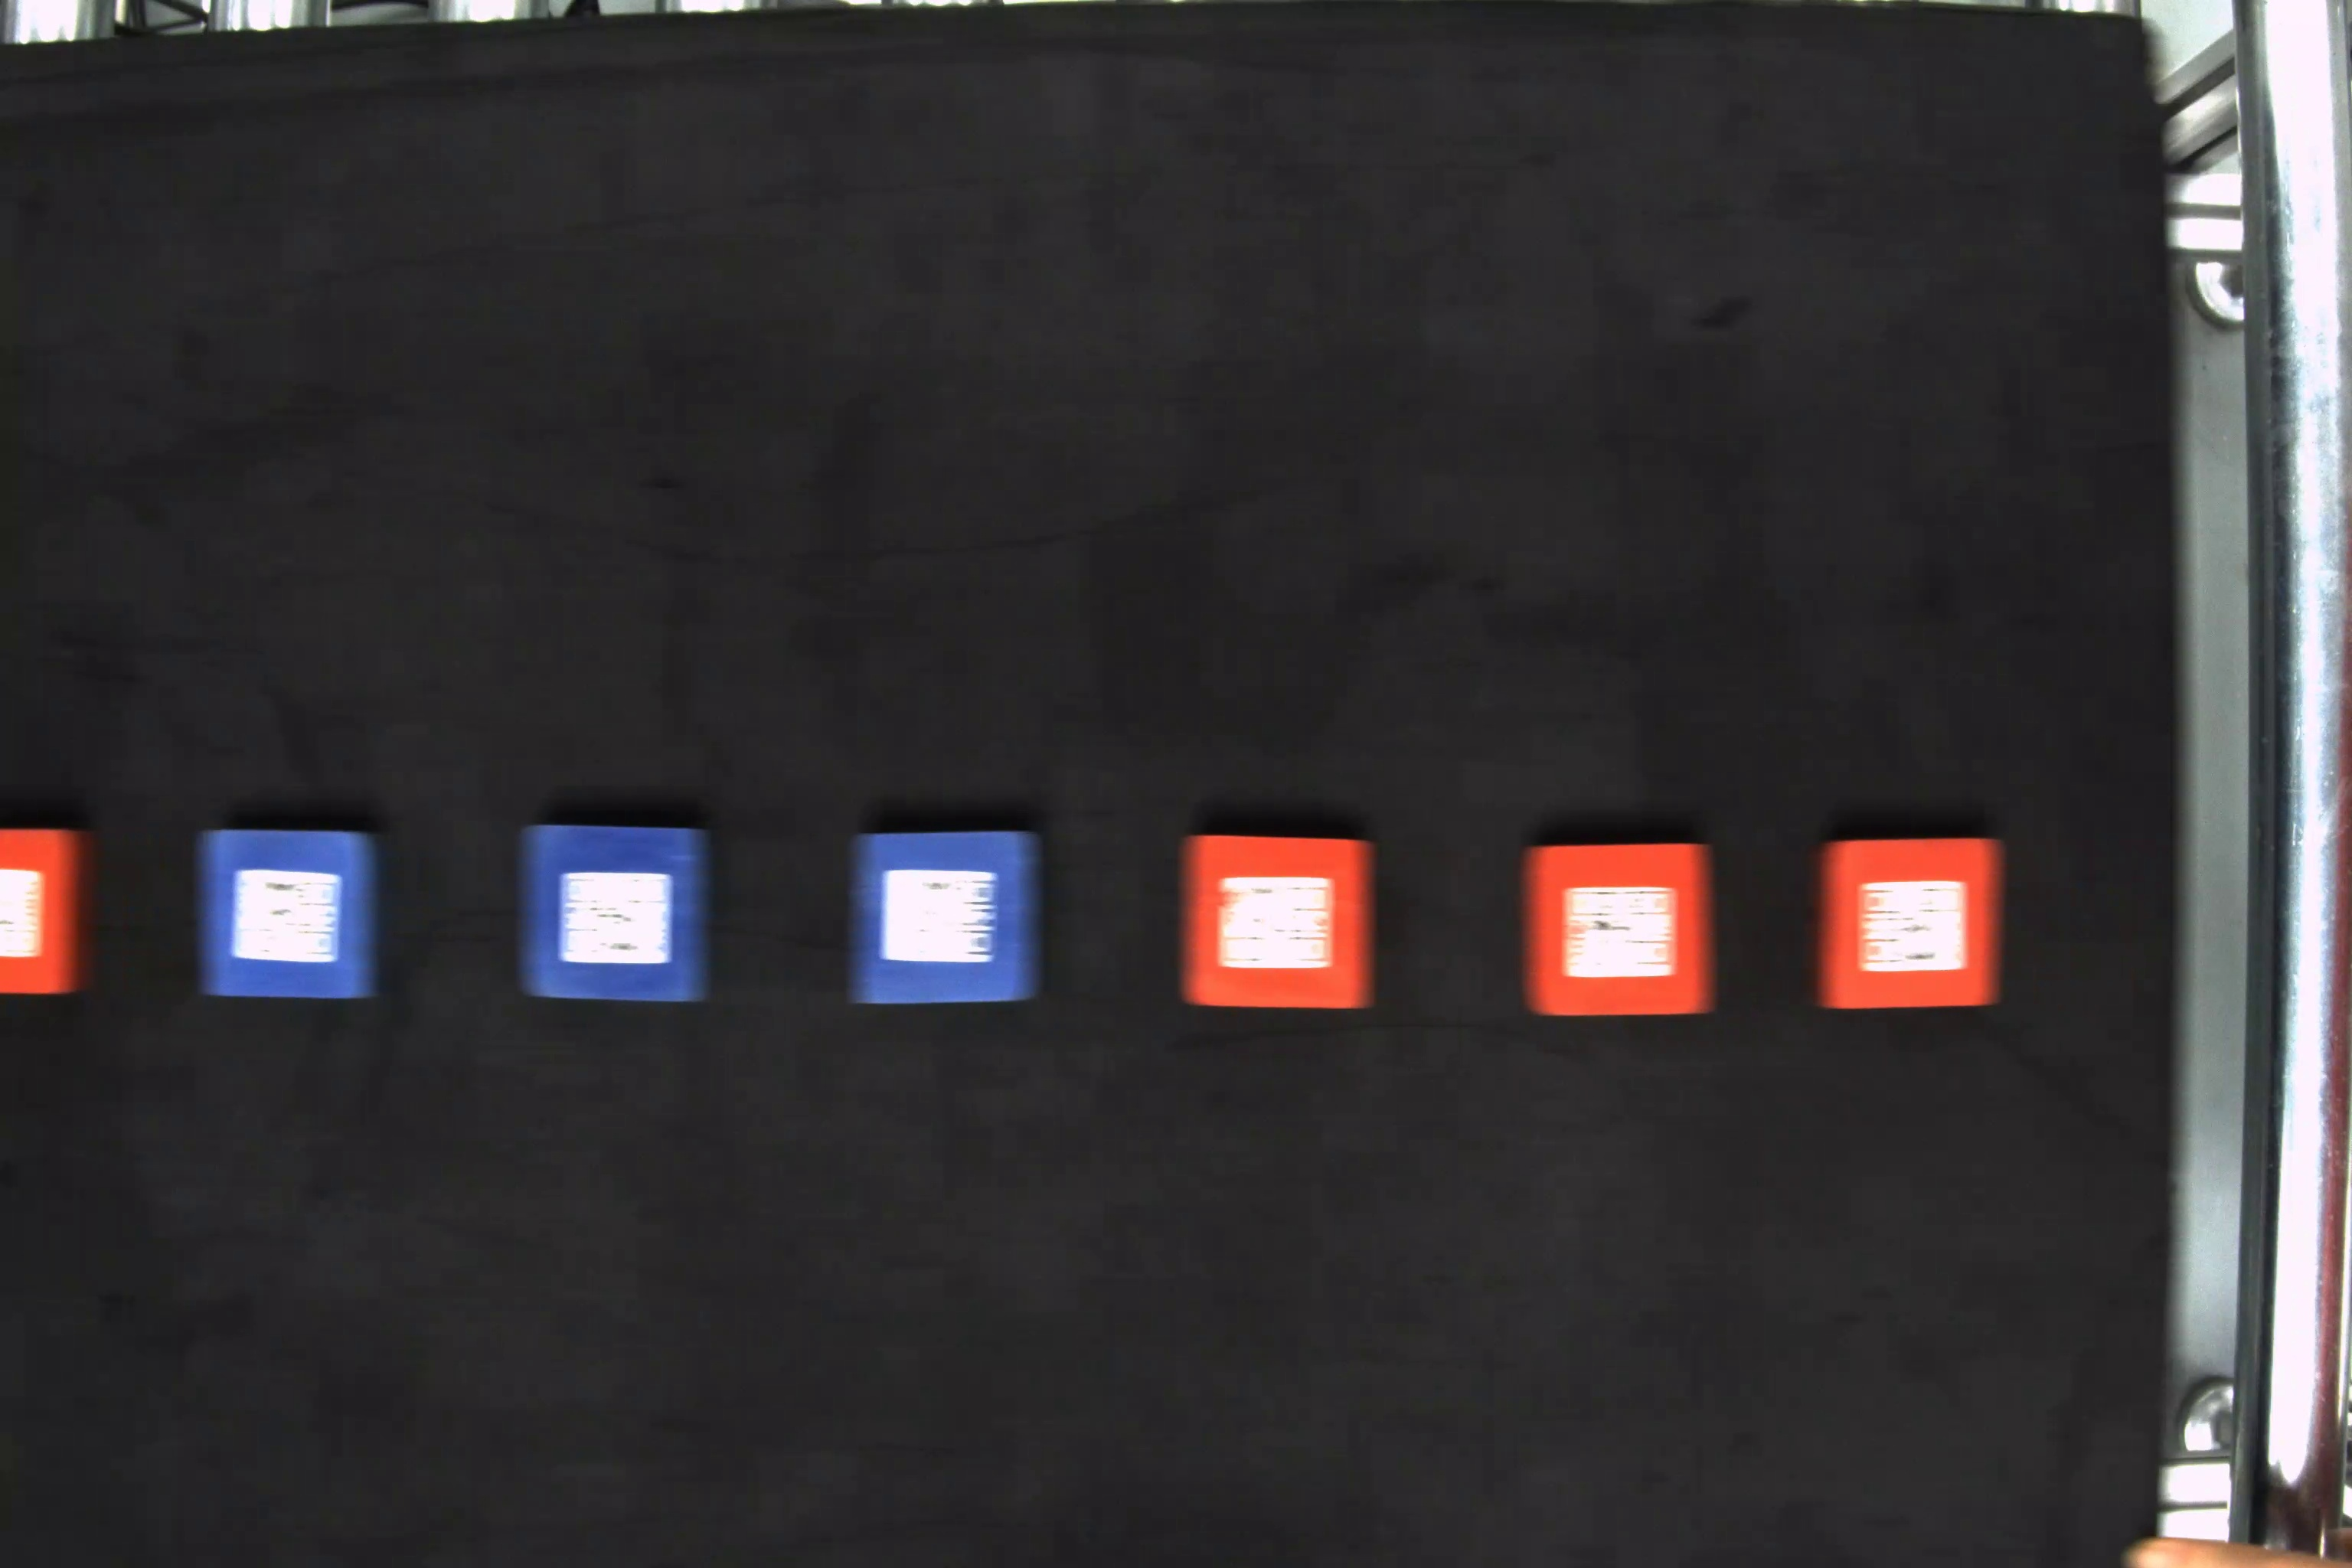wood: (518, 819, 719, 1011), (1176, 833, 1382, 1015), (850, 826, 1050, 1011), (1521, 840, 1722, 1022), (191, 826, 387, 1004), (1813, 840, 2007, 1017), (5, 826, 98, 1003)
